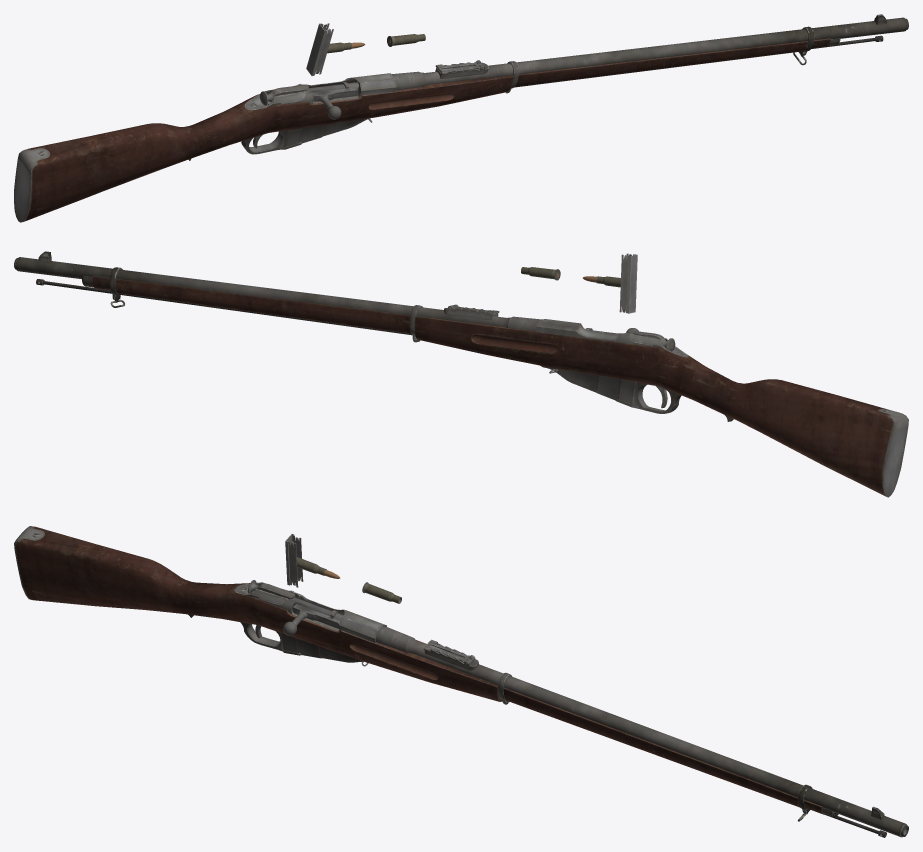
The model's file is mosin_nagant_1891 (1).glb.
3 renders of one model, top to bottom at view 1: azimuth 30°, elevation 25°; view 2: azimuth 150°, elevation 25°; view 3: azimuth 330°, elevation 25°, orthographic. The views are drawn at different scales.
Visible parts, largest first — view 1: body_low, barrel_low, boltframe_low, frame_low, backplate_low, bolthandle_low, stripmag_low, bolt_low, sightbase_low; view 2: body_low, barrel_low, frame_low, boltframe_low, backplate_low, stripmag_low, rod_low; view 3: body_low, barrel_low, boltframe_low, frame_low, bolthandle_low, stripmag_low.
Part boxes in pixels (x1,y1,x2,y2): body_low: (24,38,830,221); barrel_low: (391,17,908,90); boltframe_low: (244,73,396,110); frame_low: (188,119,366,160); backplate_low: (14,148,50,222); bolthandle_low: (298,84,358,119); stripmag_low: (306,23,333,75); bolt_low: (259,82,358,105); sightbase_low: (435,60,488,78); body_low: (92,275,900,495); barrel_low: (14,257,541,331); frame_low: (540,365,733,421); boltframe_low: (536,319,688,357); backplate_low: (878,409,908,497); stripmag_low: (619,253,637,313); rod_low: (36,279,412,335); body_low: (15,526,824,814); barrel_low: (376,626,908,837); boltframe_low: (234,582,386,642); frame_low: (188,614,361,662); bolthandle_low: (282,596,340,635); stripmag_low: (285,534,303,587).
Bounding box in the file's own units: 16.57 × 2.98 × 1.39.
1 material, 1 textured.
